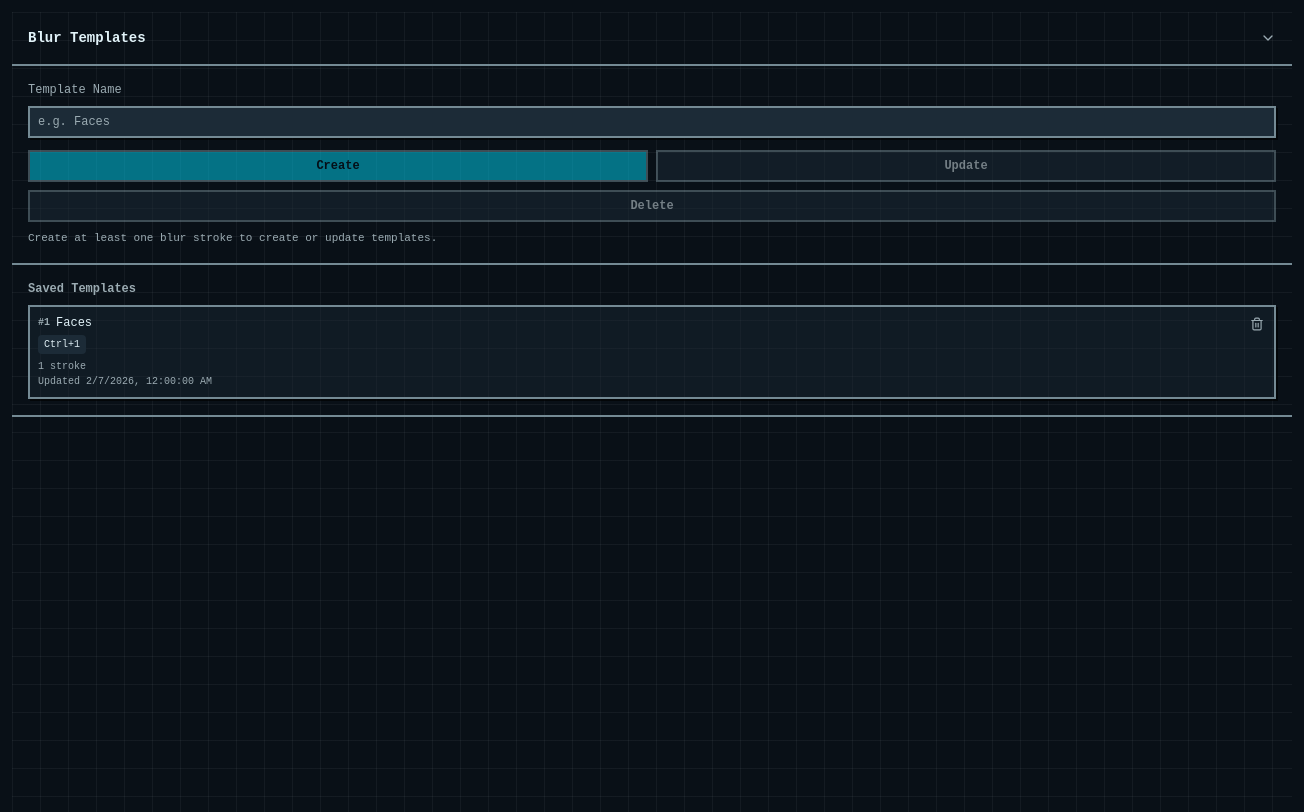
Test: template panel integration › loads on card click, then supports update and delete flow
The image size is (1304, 812).
Check: the button "Create" is disabled, box [28, 150, 648, 182]
Check: the button "Update" is disabled, box [656, 150, 1276, 182]
Click the button named "Delete template Faces". click: (1257, 324)
box: [1248, 314, 1266, 332]
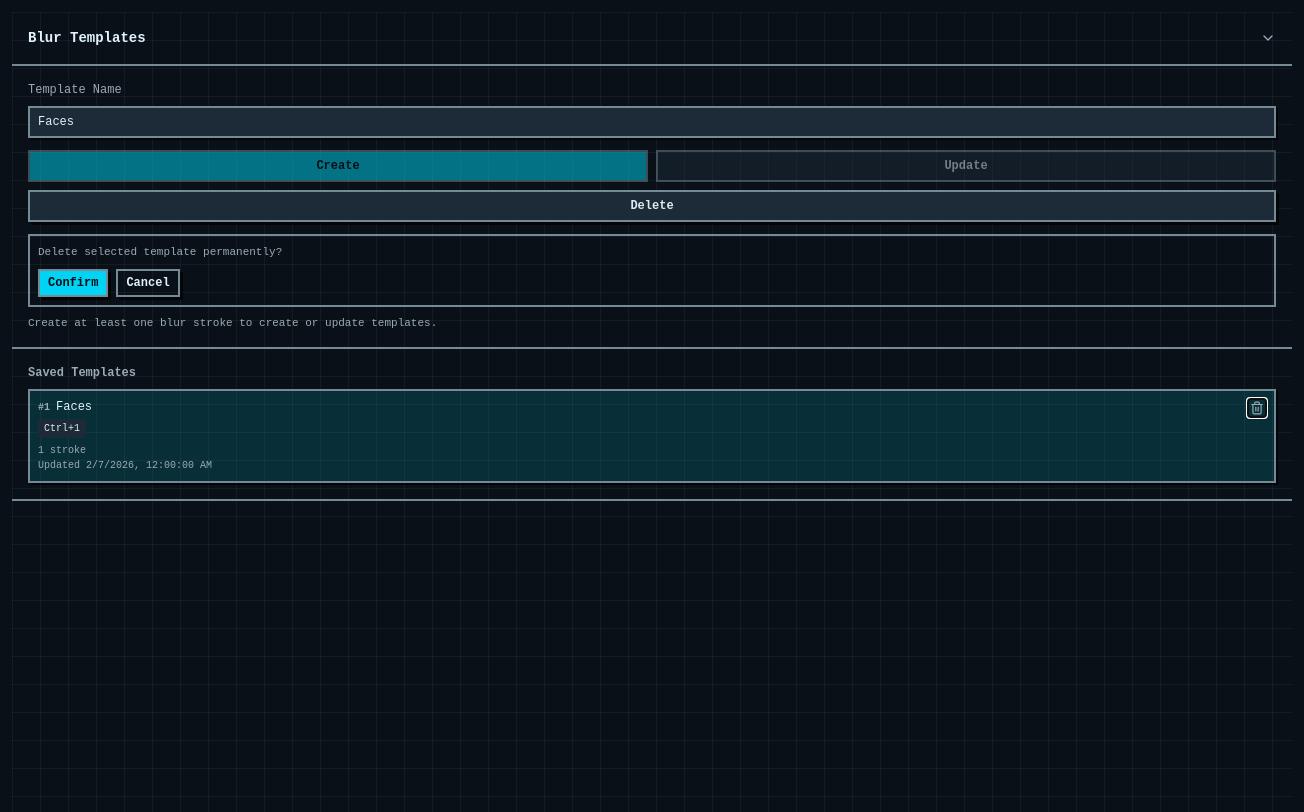
Check: the text "Delete selected template permanently?" is shown, box [38, 246, 282, 258]
Click the button "Cancel". click: (148, 282)
box: [116, 268, 180, 296]
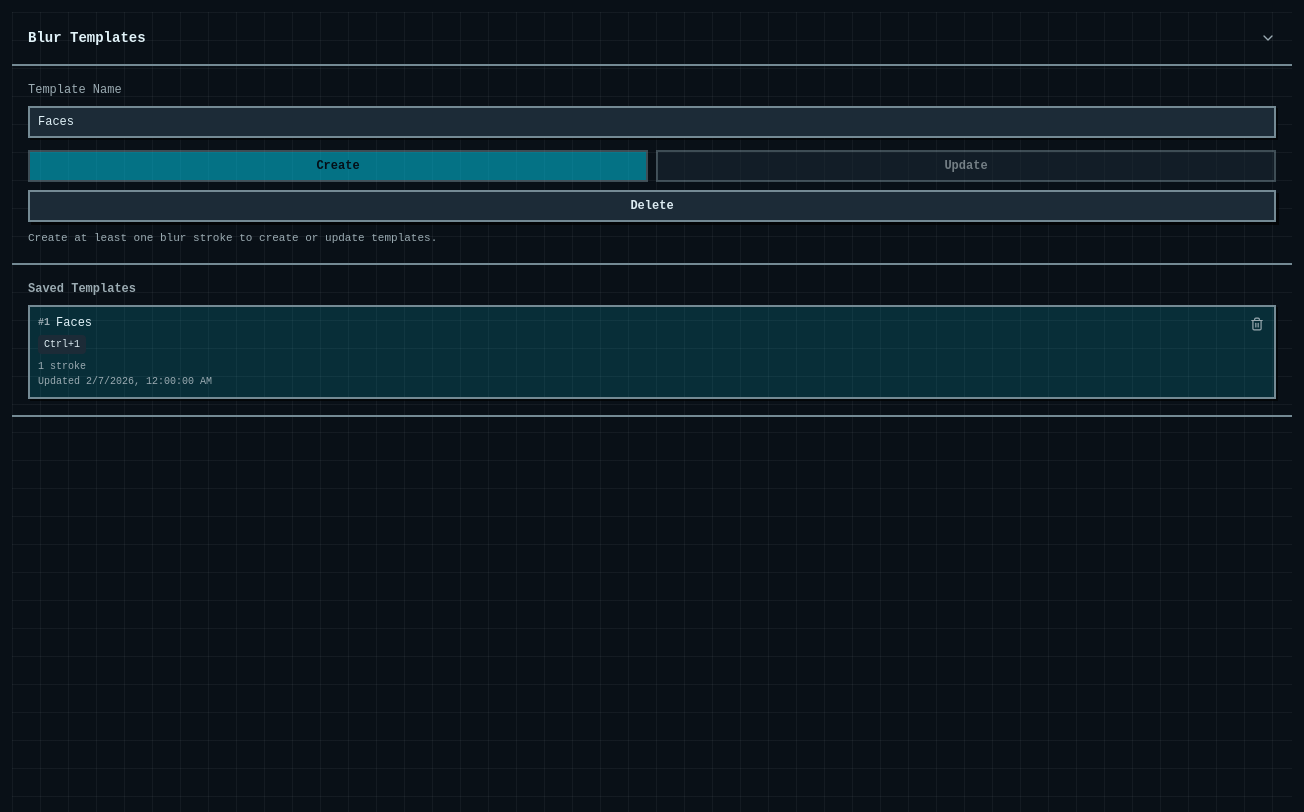
Click the button with aria-label "Load template Faces". click: (74, 322)
box: [28, 304, 1276, 398]
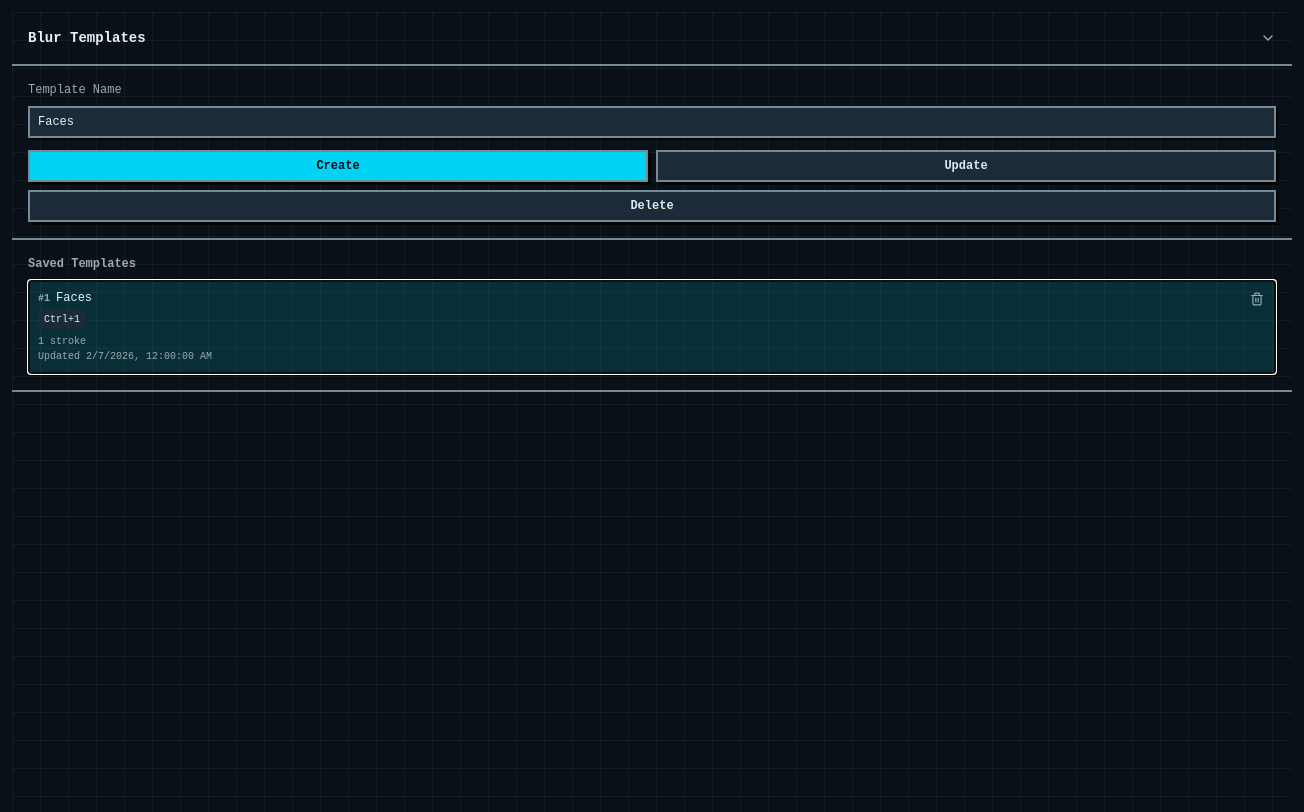
Check: the field showing "Faces" is shown, box [28, 106, 1276, 138]
Check: the button "Update" is enabled, box [656, 150, 1276, 182]
Click the button "Delete". click: (652, 206)
box: [28, 190, 1276, 222]
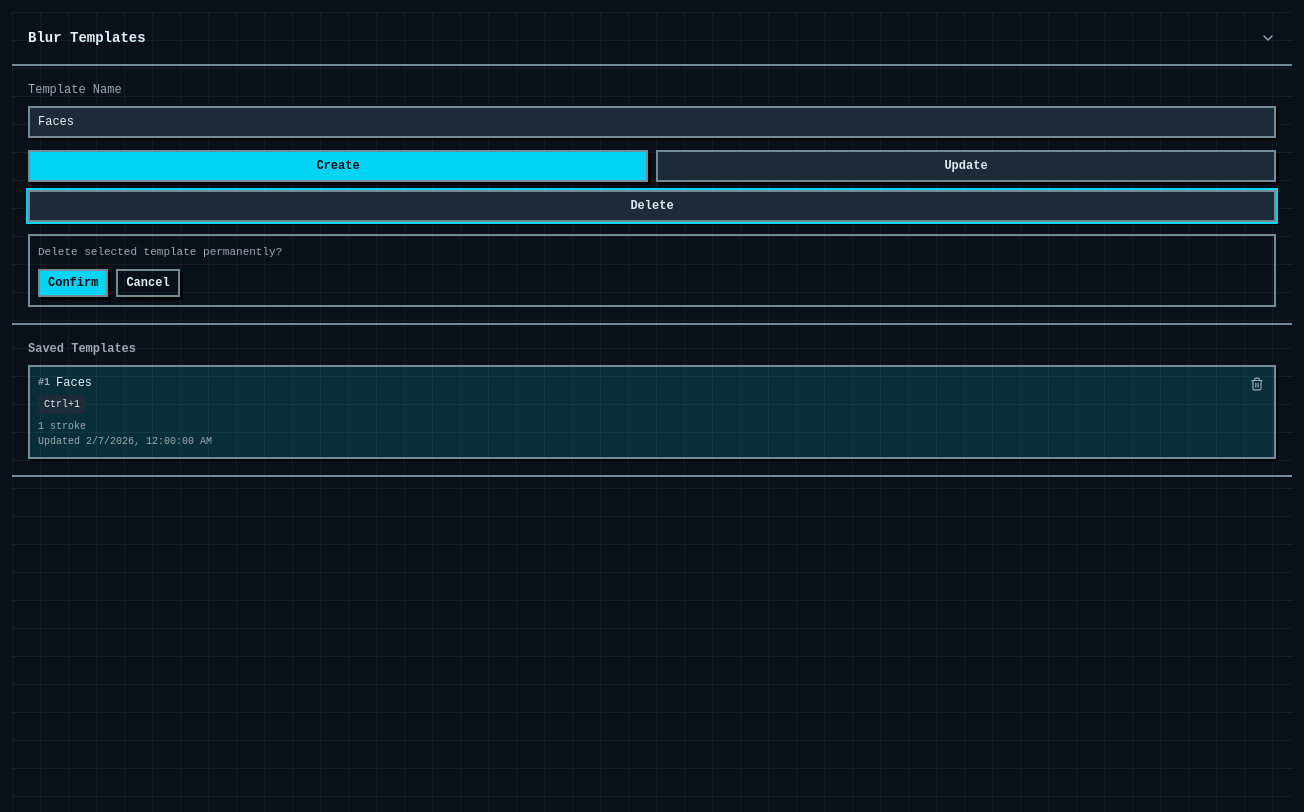
Check: the text "Delete selected template permanently?" is shown, box [38, 246, 282, 258]
Click the button "Confirm". click: (73, 282)
box: [38, 268, 108, 296]
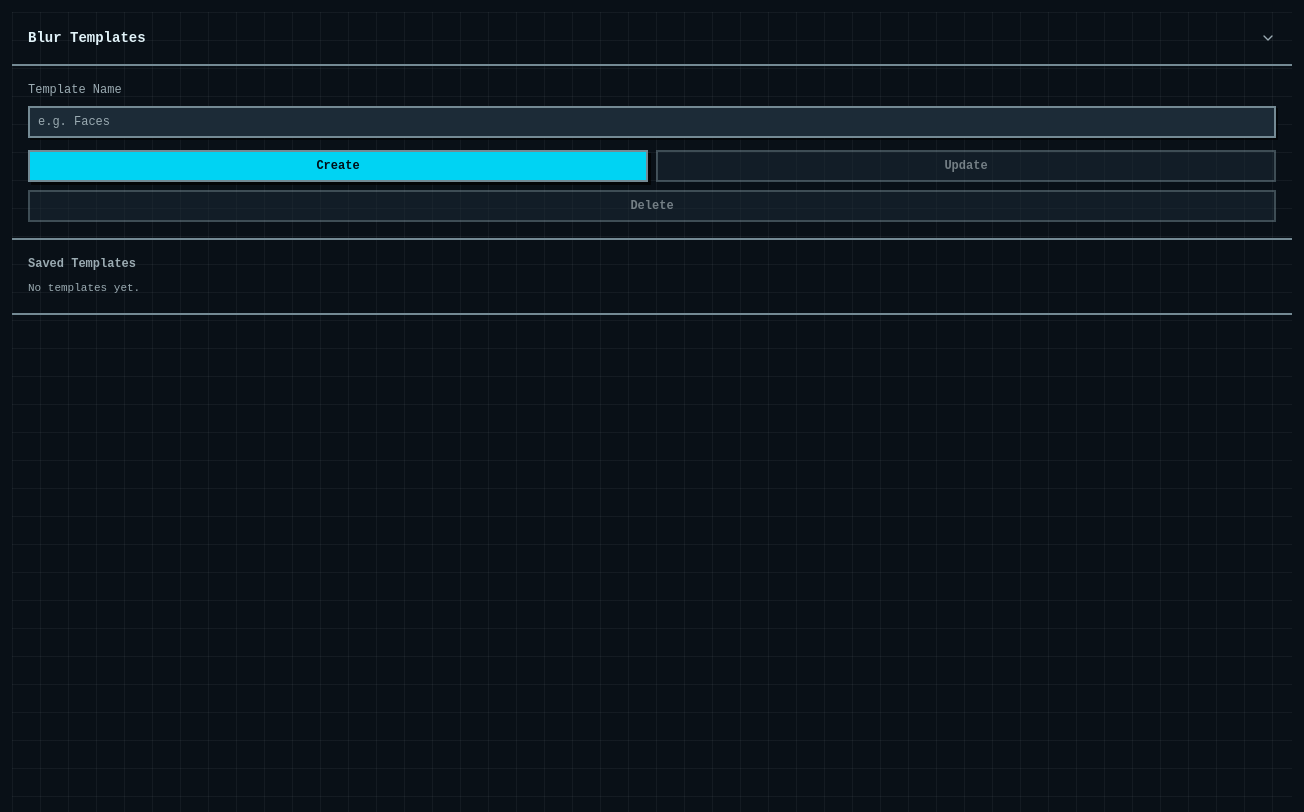
Check: the text "No templates yet." is shown, box [28, 282, 140, 294]
